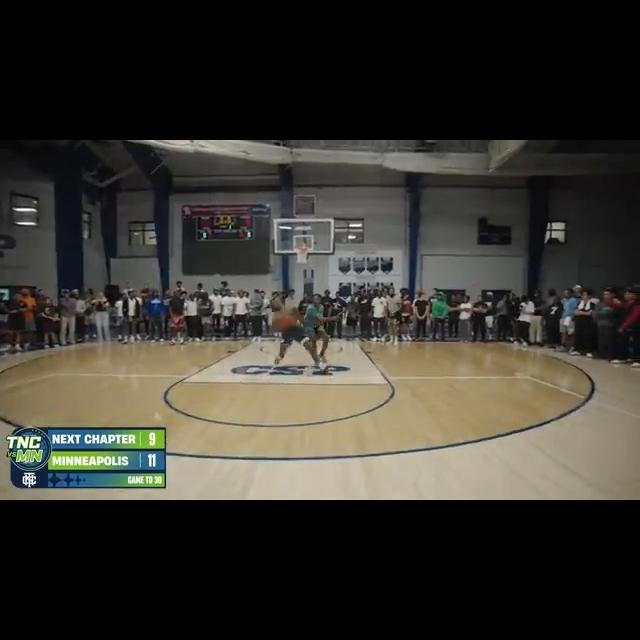hoop: (293, 243, 311, 265)
